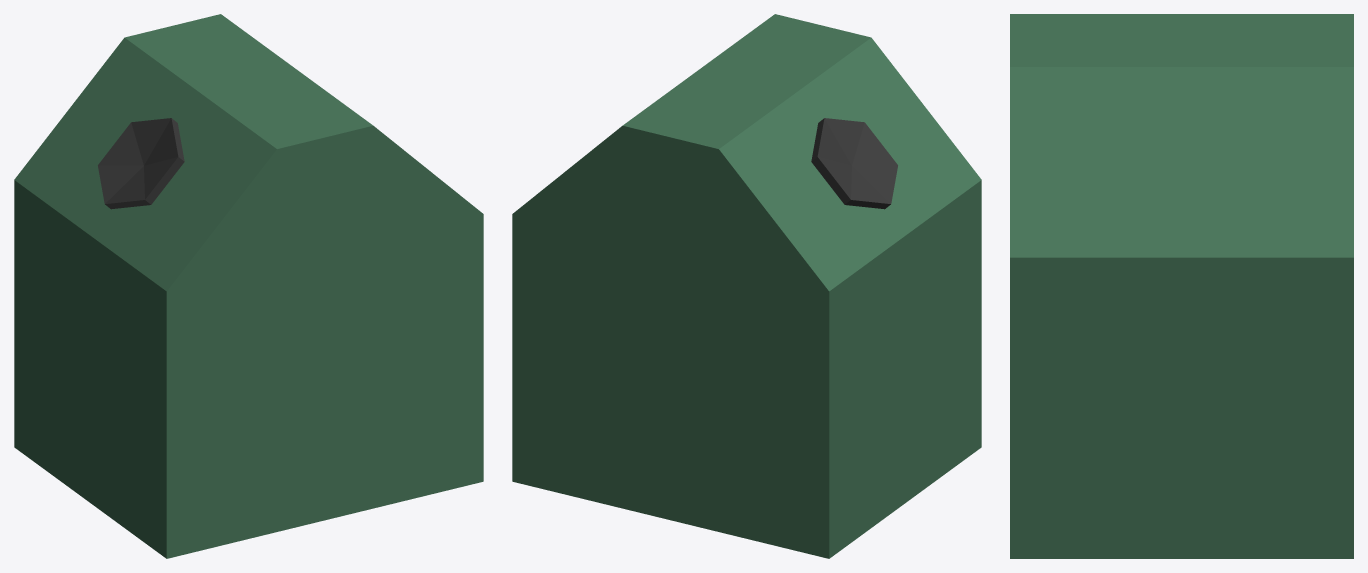
The model's file is trash_02.fbx.
The picture shows the model from 3 angles, left to right: view 1: azimuth 30°, elevation 25°; view 2: azimuth 150°, elevation 25°; view 3: azimuth 270°, elevation 25°; orthographic projection. The views are drawn at different scales.
Visible parts, largest first — view 1: trash_02; view 2: trash_02; view 3: trash_02.
Boxes of the visible parts, bbox=[...] form: trash_02: bbox=[14, 14, 483, 558]; trash_02: bbox=[512, 14, 981, 558]; trash_02: bbox=[1010, 14, 1353, 558].
Size of the model in its own units: 180 by 208 by 150.
